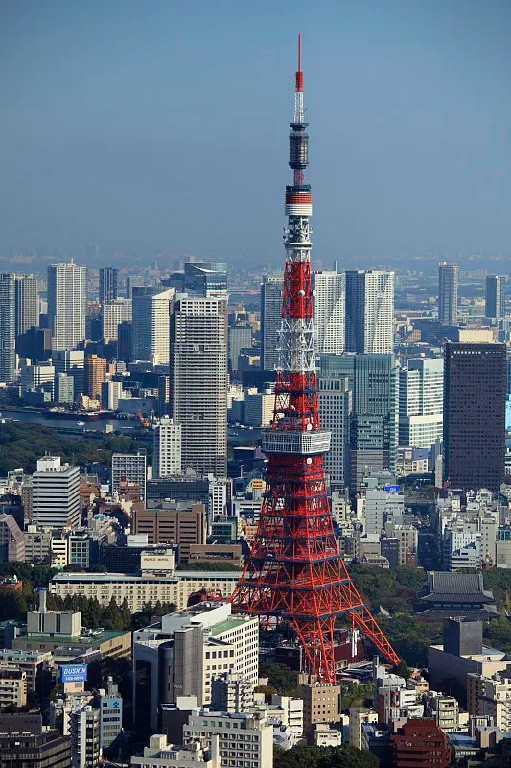Tokyo: (228, 28, 399, 684)
